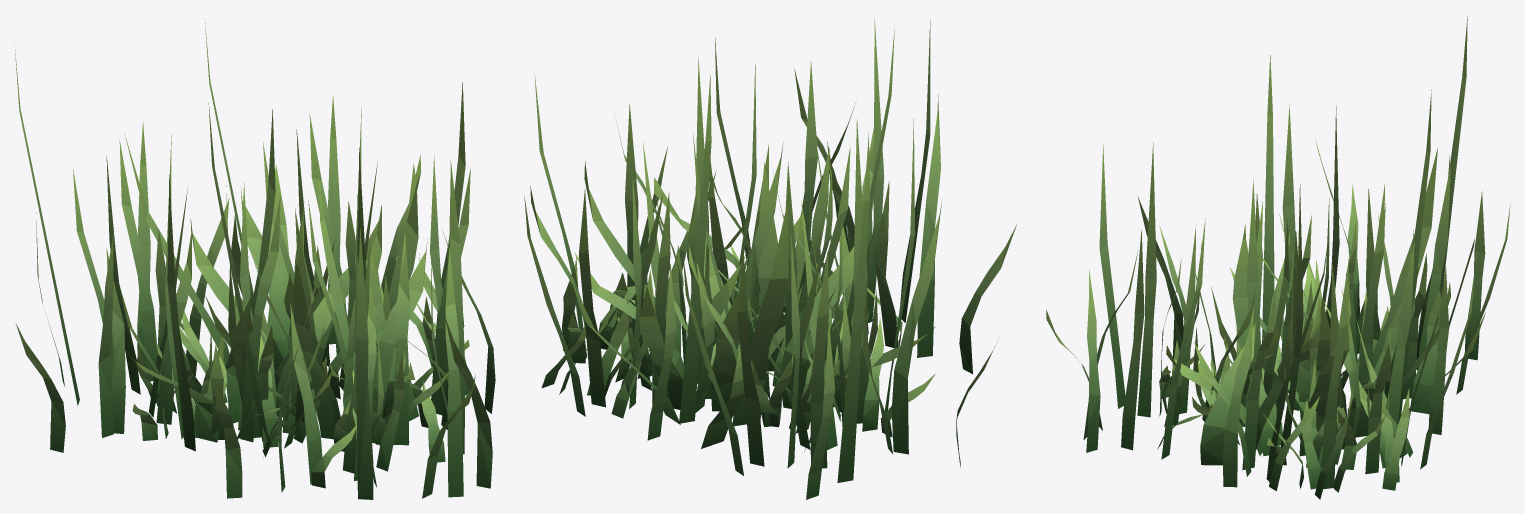
The model's file is SM_Algae_4.fbx.
3 views of the same model, side by side, from view 1: azimuth 30°, elevation 25°; view 2: azimuth 150°, elevation 25°; view 3: azimuth 270°, elevation 25° (orthographic). The views are drawn at different scales.
Parts seen in each view (by area): view 1: Algae_4; view 2: Algae_4; view 3: Algae_4.
Boxes of the visible parts, <box> form: Algae_4: <box>14,19,495,499</box>; Algae_4: <box>524,18,1017,499</box>; Algae_4: <box>1046,15,1510,499</box>.
Size of the model in its own units: 282 by 216 by 282.
